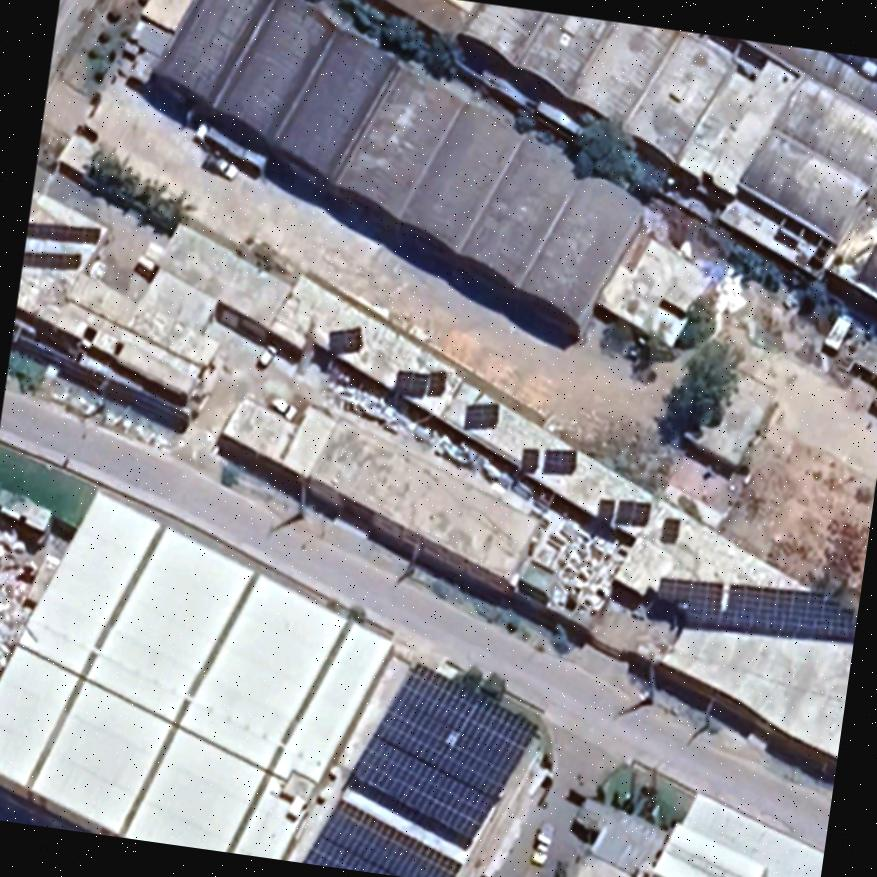Solarpanel: (340, 658, 539, 851), (648, 571, 858, 648), (292, 791, 466, 877), (589, 491, 657, 531), (511, 442, 582, 480), (23, 216, 104, 245), (819, 52, 877, 89), (387, 364, 447, 399), (453, 395, 501, 435), (318, 324, 363, 357), (21, 248, 81, 270), (656, 513, 684, 543)
